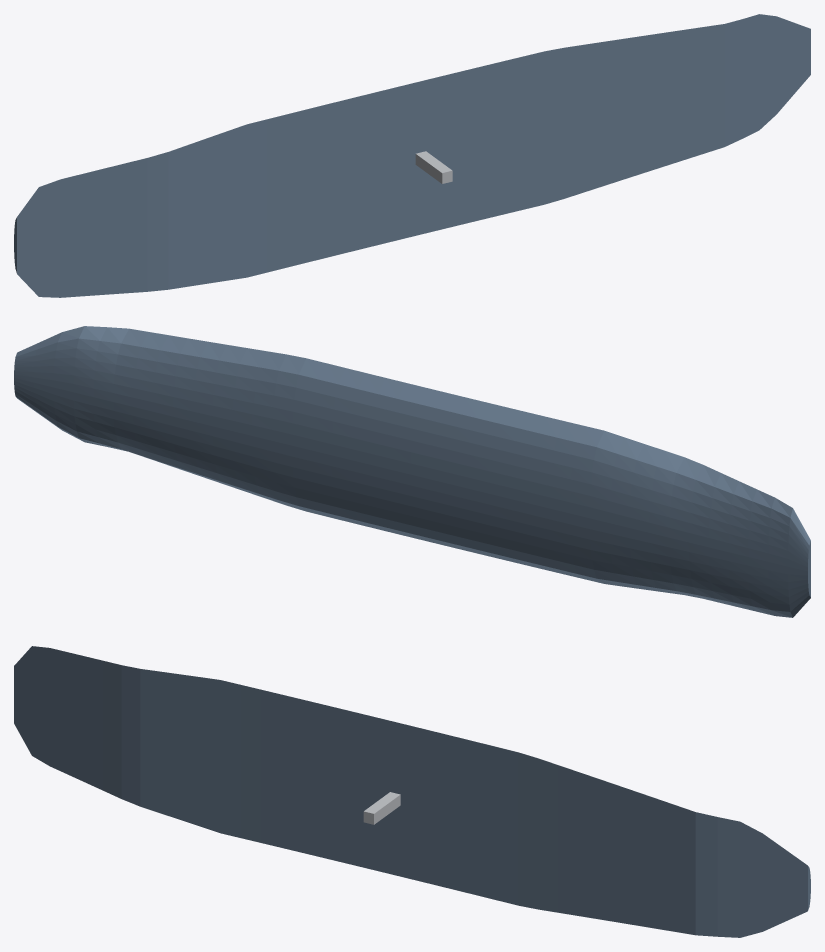
Rendered from partly-submerged-loft-sheered.glb.
The picture shows the model from 3 angles, top to bottom: view 1: azimuth 30°, elevation 25°; view 2: azimuth 150°, elevation 25°; view 3: azimuth 330°, elevation 25°; orthographic projection.
Parts seen in each view (by area): view 1: partly-submerged-loft-sheered; view 2: partly-submerged-loft-sheered; view 3: partly-submerged-loft-sheered.
Boxes of the visible parts, box(x1,y1,x2,y2) form: partly-submerged-loft-sheered: box(14, 14, 810, 297); partly-submerged-loft-sheered: box(14, 326, 810, 617); partly-submerged-loft-sheered: box(14, 646, 810, 937).
Size of the model in its own units: 1.82 by 0.336 by 0.1622.
